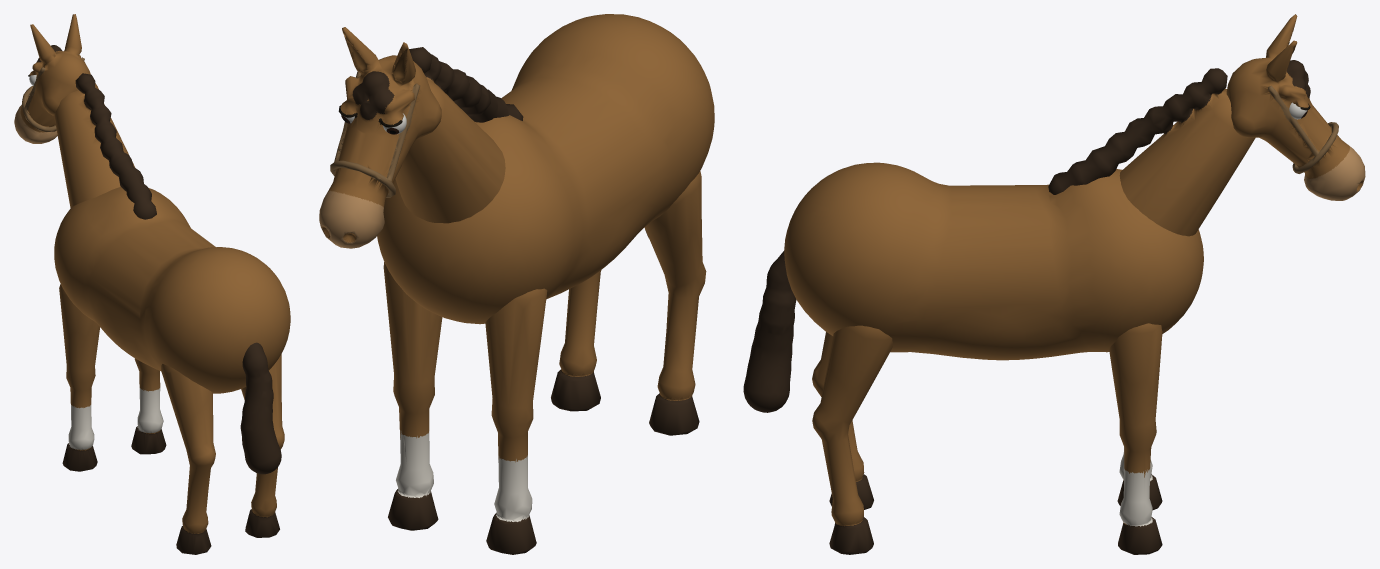
Rendered from horse-dun.glb.
The picture shows the model from 3 angles, left to right: view 1: azimuth 30°, elevation 25°; view 2: azimuth 150°, elevation 25°; view 3: azimuth 270°, elevation 25°; orthographic projection. The views are drawn at different scales.
Parts seen in each view (by area): view 1: body_lod0, neck_lod0, leg_2_lod0, head_lod0, leg_0_lod0, tail_lod0, leg_3_lod0, leg_1_lod0; view 2: body_lod0, head_lod0, neck_lod0, leg_0_lod0, leg_1_lod0, leg_2_lod0, leg_3_lod0; view 3: body_lod0, neck_lod0, head_lod0, leg_3_lod0, leg_1_lod0, tail_lod0, leg_2_lod0.
Part boxes in pixels (left/top/right/bottom): body_lod0: left=54, top=187, right=290, bottom=393; neck_lod0: left=54, top=73, right=156, bottom=219; leg_2_lod0: left=161, top=364, right=215, bottom=554; head_lod0: left=14, top=14, right=98, bottom=143; leg_0_lod0: left=59, top=284, right=99, bottom=471; tail_lod0: left=240, top=342, right=281, bottom=474; leg_3_lod0: left=241, top=354, right=284, bottom=537; leg_1_lod0: left=131, top=358, right=166, bottom=454; body_lod0: left=377, top=14, right=714, bottom=324; head_lod0: left=319, top=27, right=441, bottom=248; neck_lod0: left=395, top=47, right=523, bottom=223; leg_0_lod0: left=485, top=288, right=547, bottom=554; leg_1_lod0: left=383, top=262, right=442, bottom=530; leg_2_lod0: left=644, top=171, right=706, bottom=435; leg_3_lod0: left=551, top=270, right=601, bottom=411; body_lod0: left=784, top=162, right=1203, bottom=360; neck_lod0: left=1048, top=68, right=1255, bottom=236; head_lod0: left=1226, top=14, right=1365, bottom=200; leg_3_lod0: left=812, top=325, right=892, bottom=554; leg_1_lod0: left=1109, top=323, right=1162, bottom=554; tail_lod0: left=743, top=250, right=796, bottom=412; leg_2_lod0: left=812, top=332, right=873, bottom=509.
Size of what is drawn, in the model's own units: 0.9409 by 2.84 by 3.22.
